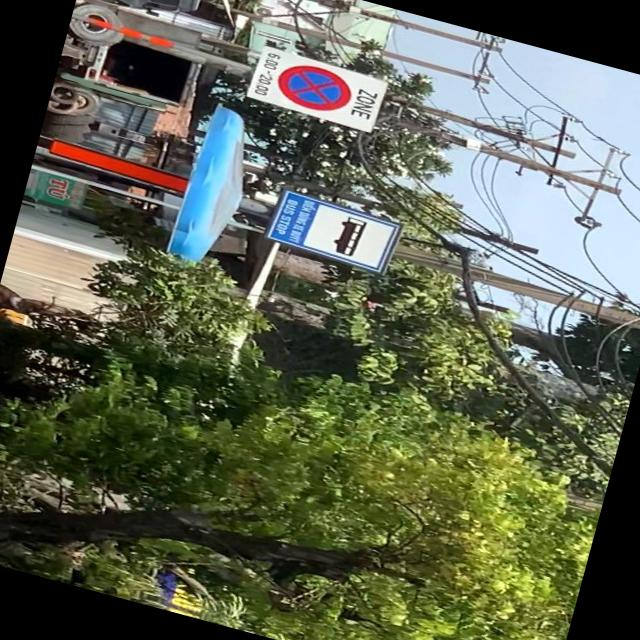P-130: (271, 57, 355, 118)
